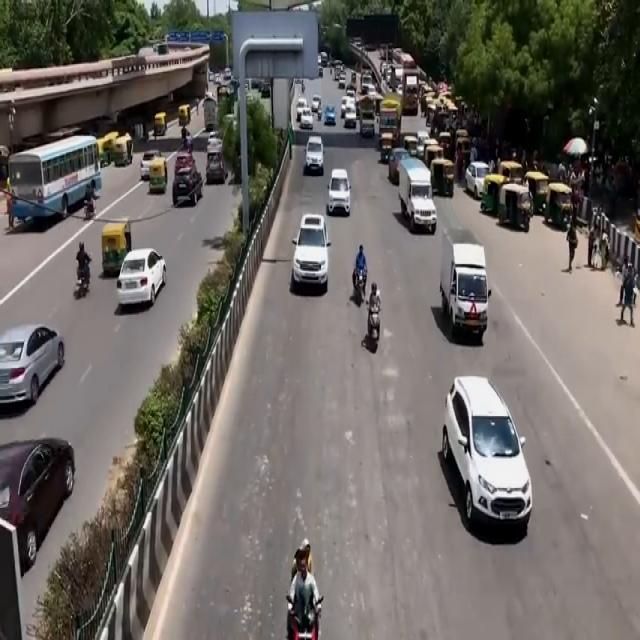BUS: (9, 137, 104, 235)
MOTORCYCLE: (285, 601, 321, 640), (366, 306, 381, 355), (354, 268, 366, 308)
TRUCK: (443, 241, 493, 344), (400, 162, 437, 236)
